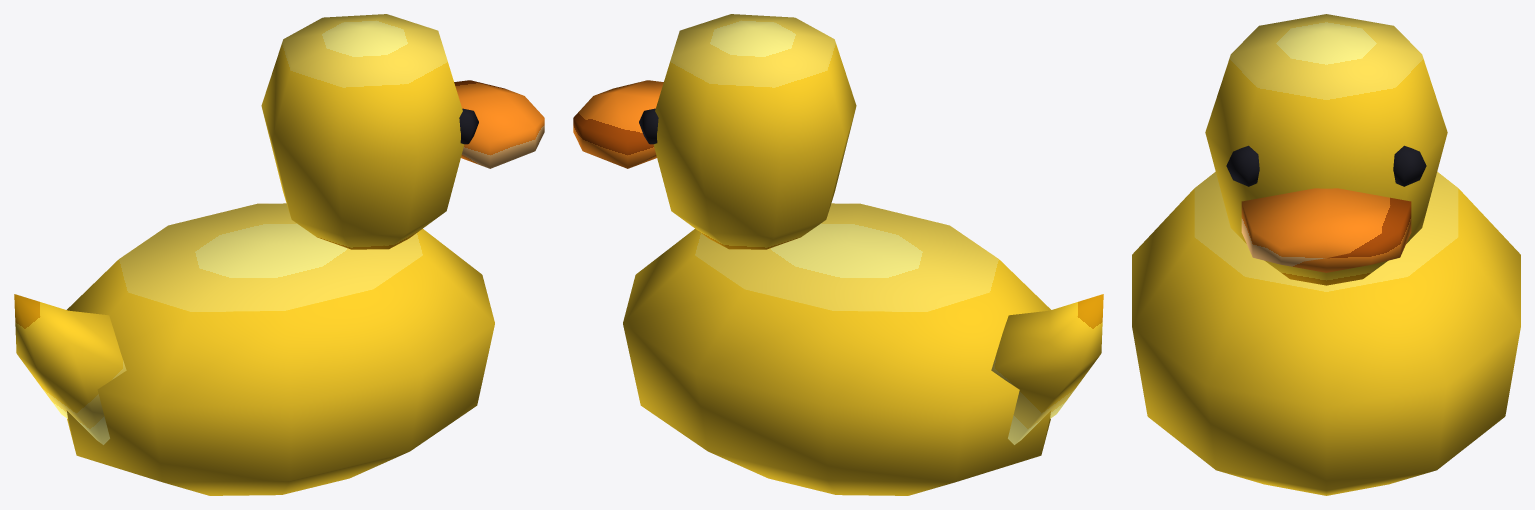
Rendered from fun-rubberDuck.glb.
3 views of the same model, side by side, from view 1: azimuth 30°, elevation 25°; view 2: azimuth 150°, elevation 25°; view 3: azimuth 270°, elevation 25° (orthographic). The views are drawn at different scales.
Visible parts, largest first — view 1: fun.rubberDuck; view 2: fun.rubberDuck; view 3: fun.rubberDuck.
Part boxes in pixels (x1=…): fun.rubberDuck: x1=14, y1=14, x2=544, y2=495; fun.rubberDuck: x1=573, y1=14, x2=1103, y2=495; fun.rubberDuck: x1=1132, y1=14, x2=1520, y2=495.
Bounding box in the file's own units: 1.9 × 1.45 × 1.1.
Materials: 3 (2 with a texture image).
